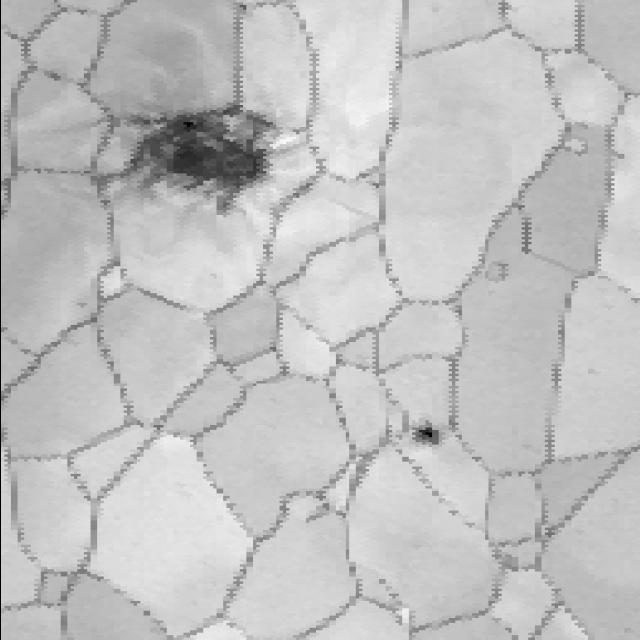good_void: (59, 91, 320, 237), (393, 414, 457, 461)
